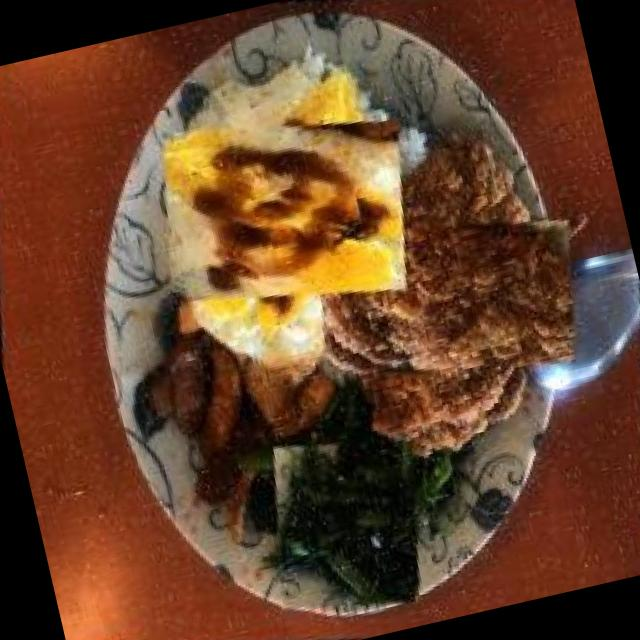fried_chicken: (311, 160, 584, 434)
fried_eggs: (144, 69, 426, 351)
water_spinach: (242, 419, 452, 629)
